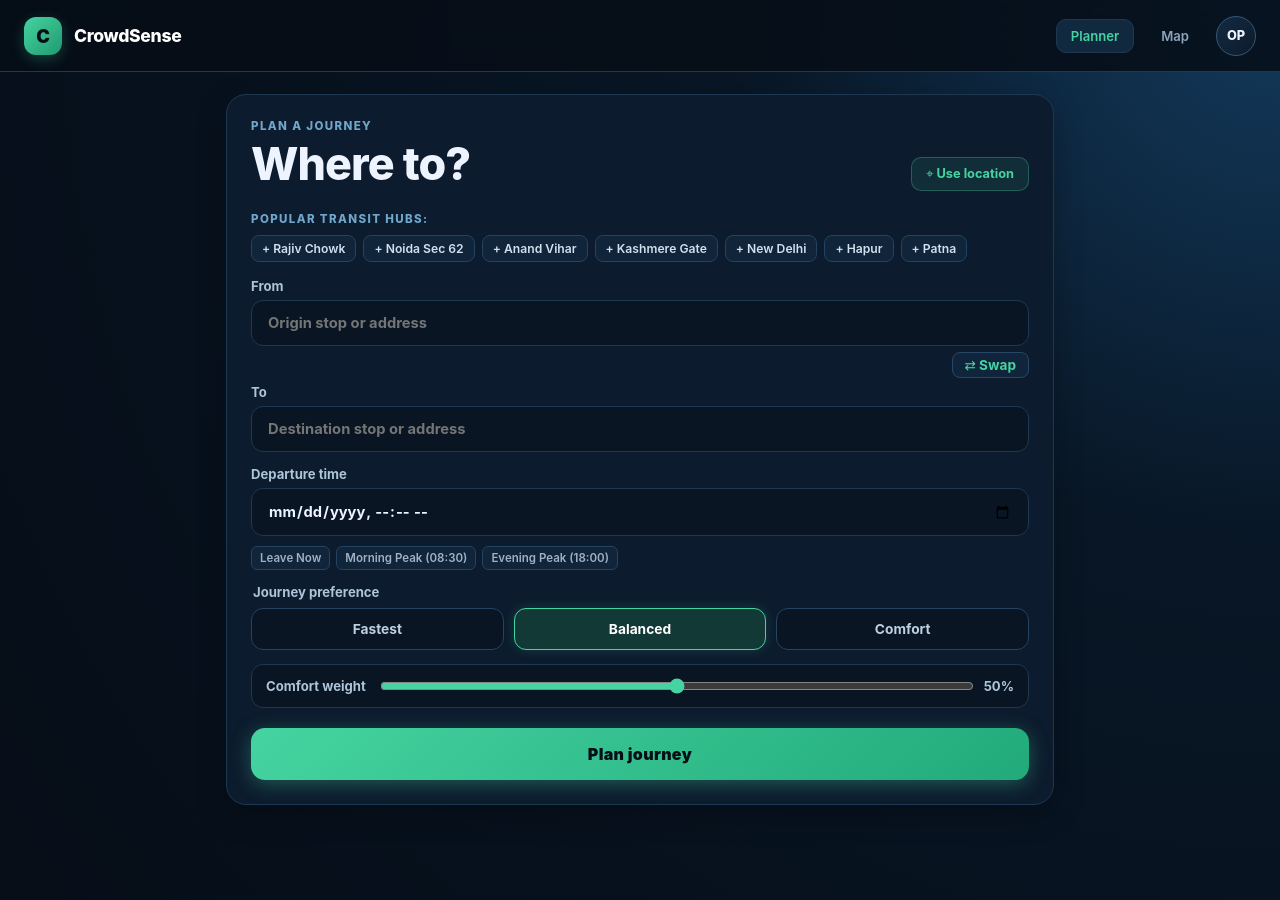
Test case: CrowdSense journey planner › renders a no-route state without fabricated alternatives
The image size is (1280, 900).
Type "A" into the field with placeholder "Origin stop or address" at (640, 323), box [251,300,1029,346]
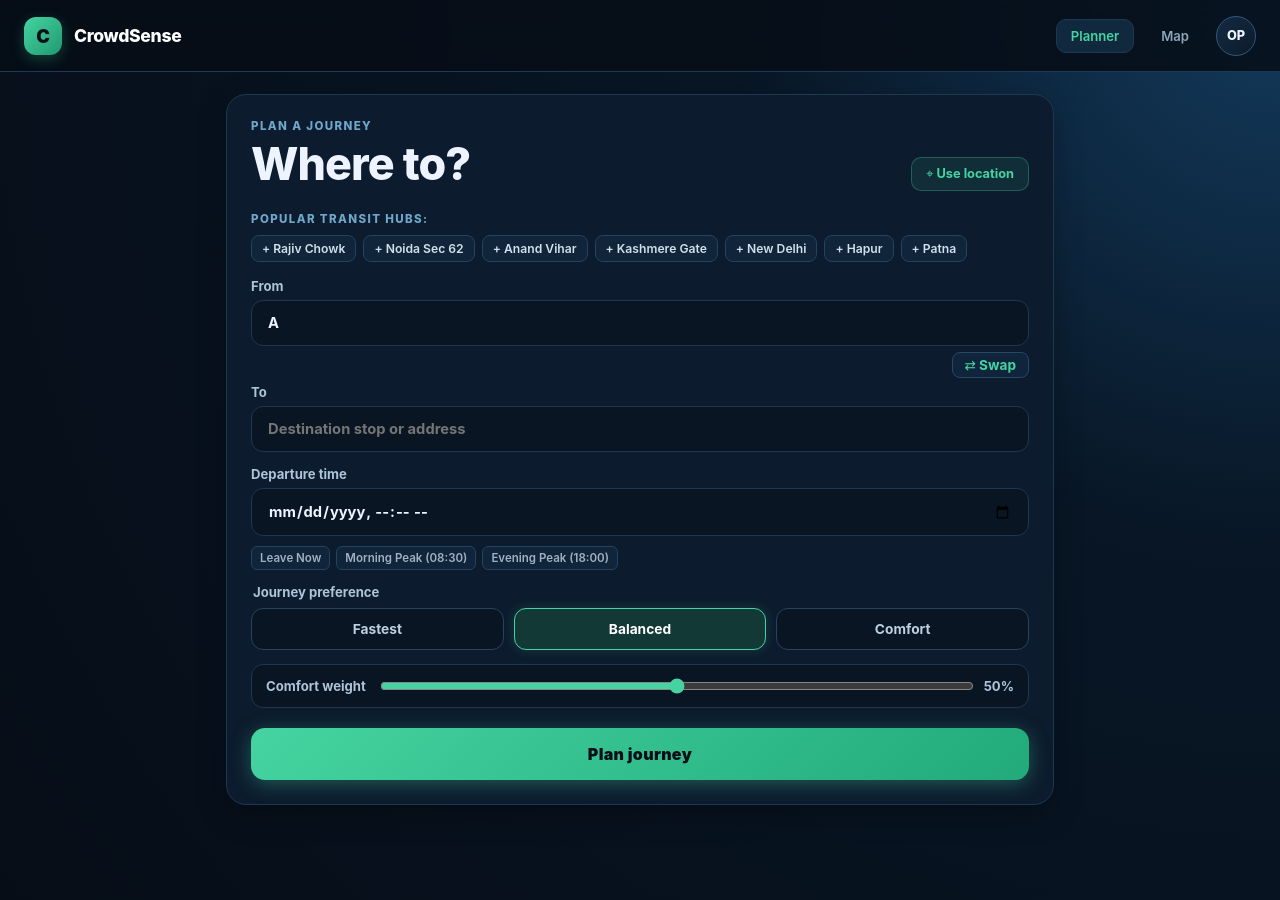
Type "Z" into the field with placeholder "Destination stop or address" at (640, 429), box [251,406,1029,452]
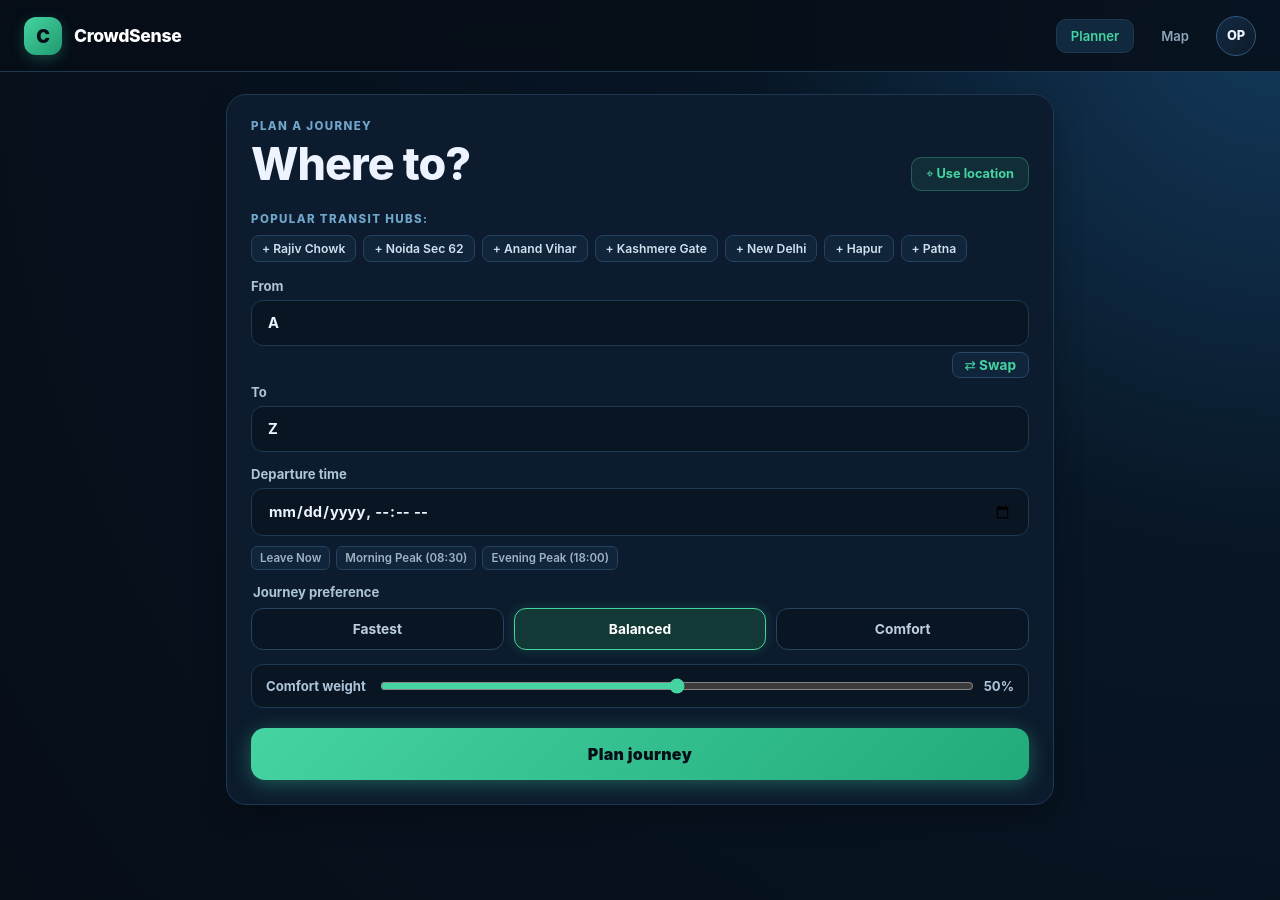
Click the button "Plan journey" at (640, 754), box [251,728,1029,780]
(page scrolled)
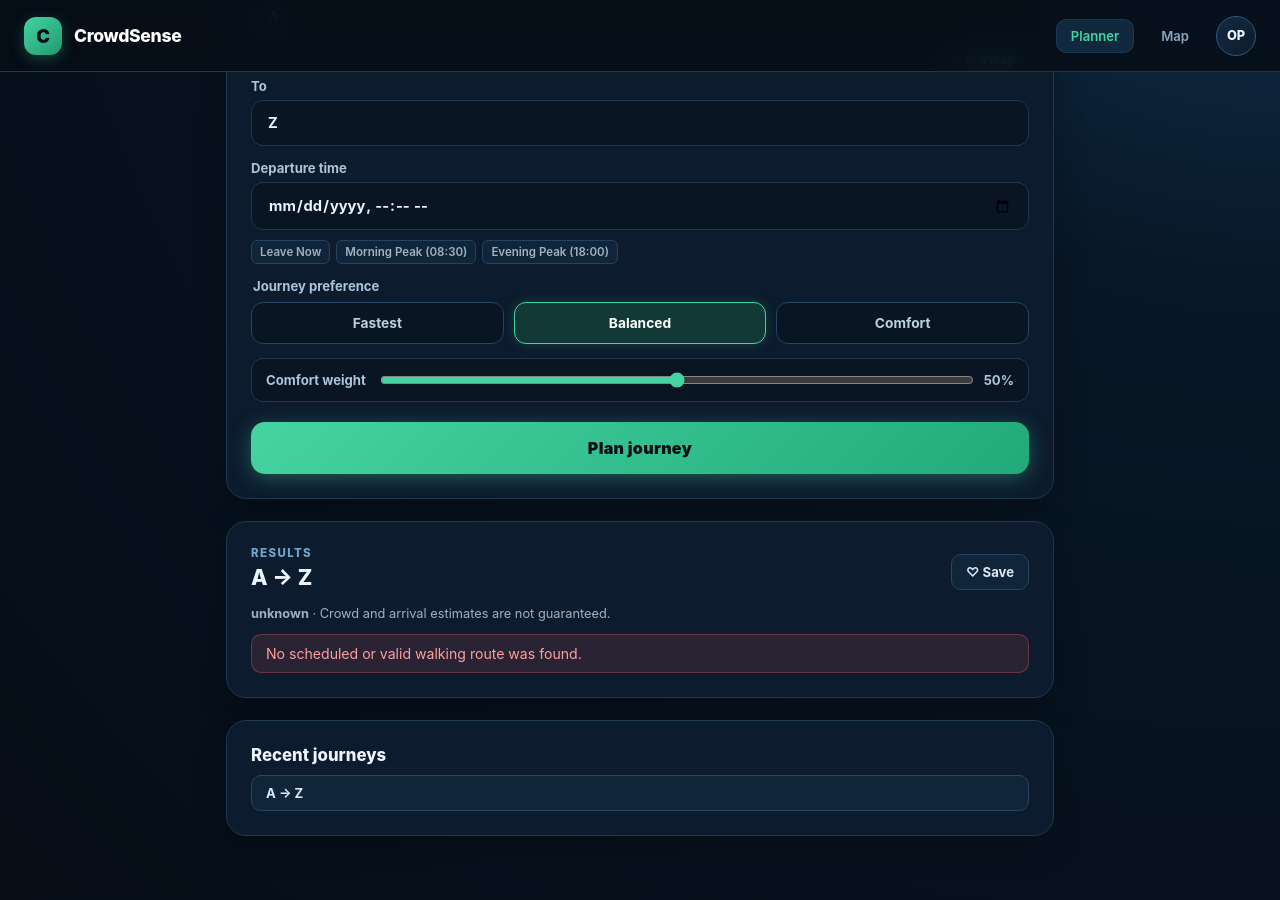
Expected: the message shows "No scheduled or valid walking route", [266,645,582,662]
